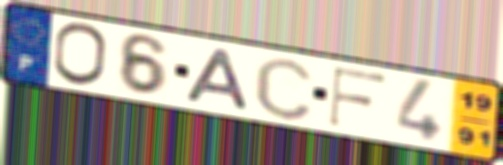4: (393, 75, 446, 147)
6: (114, 32, 174, 99)
A: (182, 46, 254, 114)
C: (251, 55, 316, 123)
F: (326, 65, 389, 130)
O: (50, 21, 111, 89)
